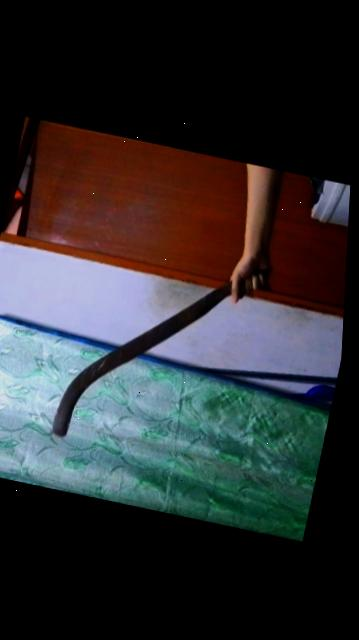long knife: (39, 204, 282, 488)
